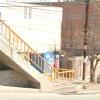stairs: (0, 22, 41, 77), (92, 56, 99, 84)
